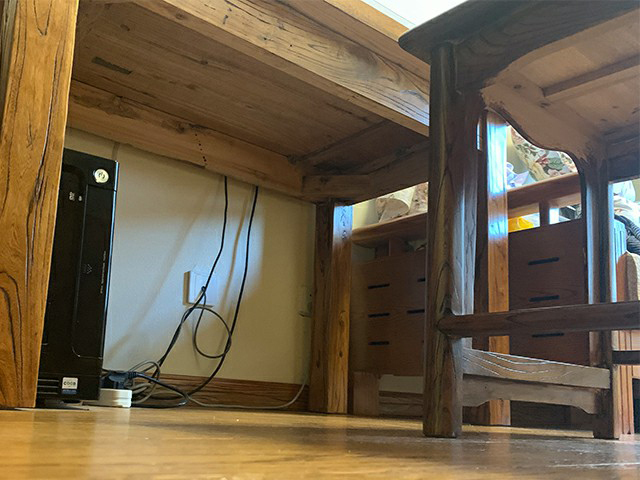sofa: (346, 126, 640, 437)
stool: (397, 1, 640, 437)
table: (1, 1, 510, 425)
wire: (94, 175, 306, 411)
